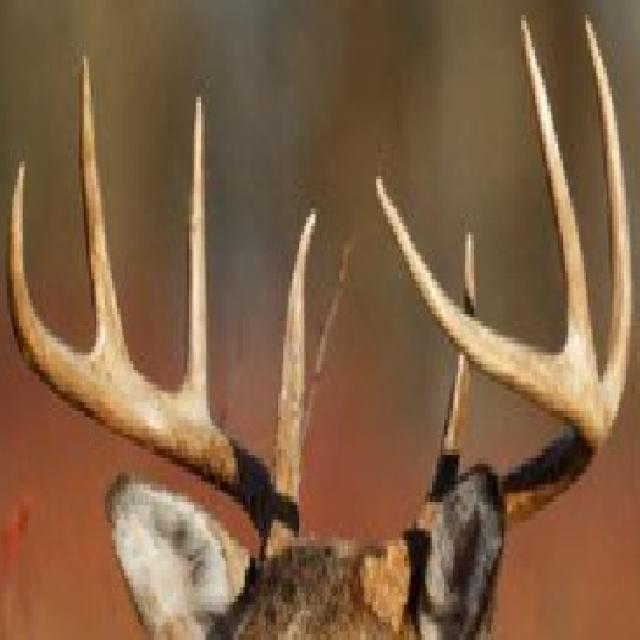L-G2: (584, 16, 632, 446)
L-G3: (517, 13, 599, 383)
R-F: (4, 158, 298, 560)
R-G1: (270, 205, 320, 506)
R-G2: (180, 94, 209, 416)
R-G3: (76, 53, 133, 369)
